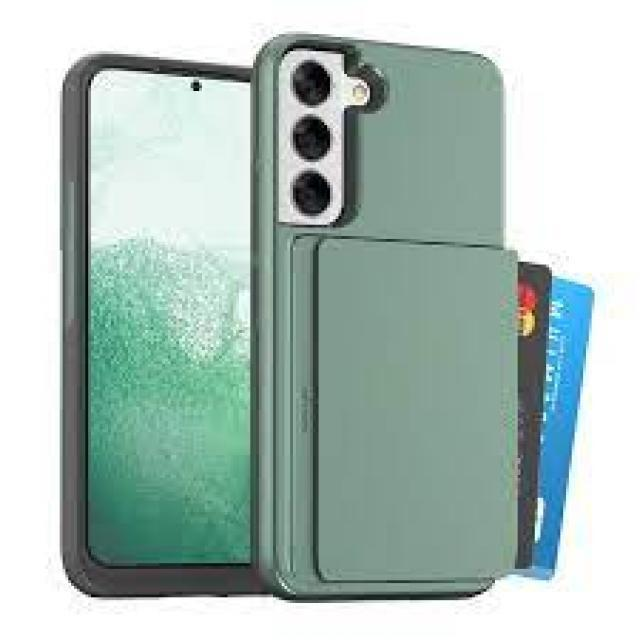lens: (277, 43, 351, 224)
phone: (255, 35, 507, 596), (51, 48, 258, 606)
